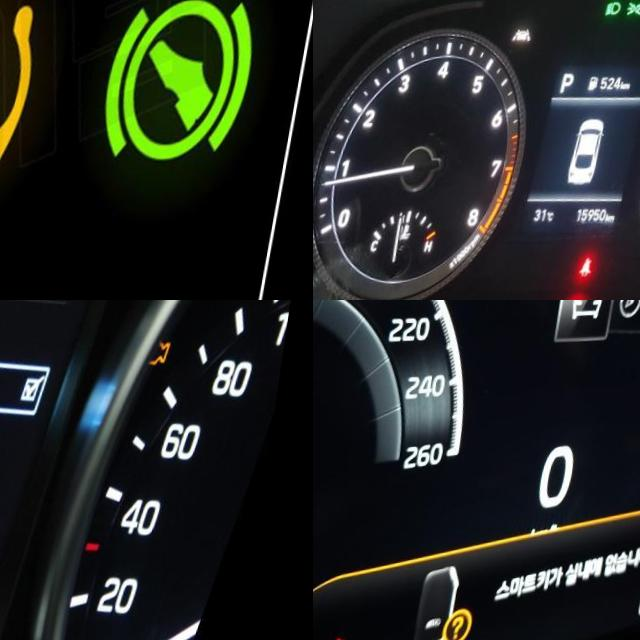Low beam: (608, 4, 627, 23)
SideLamp: (629, 4, 640, 22)
